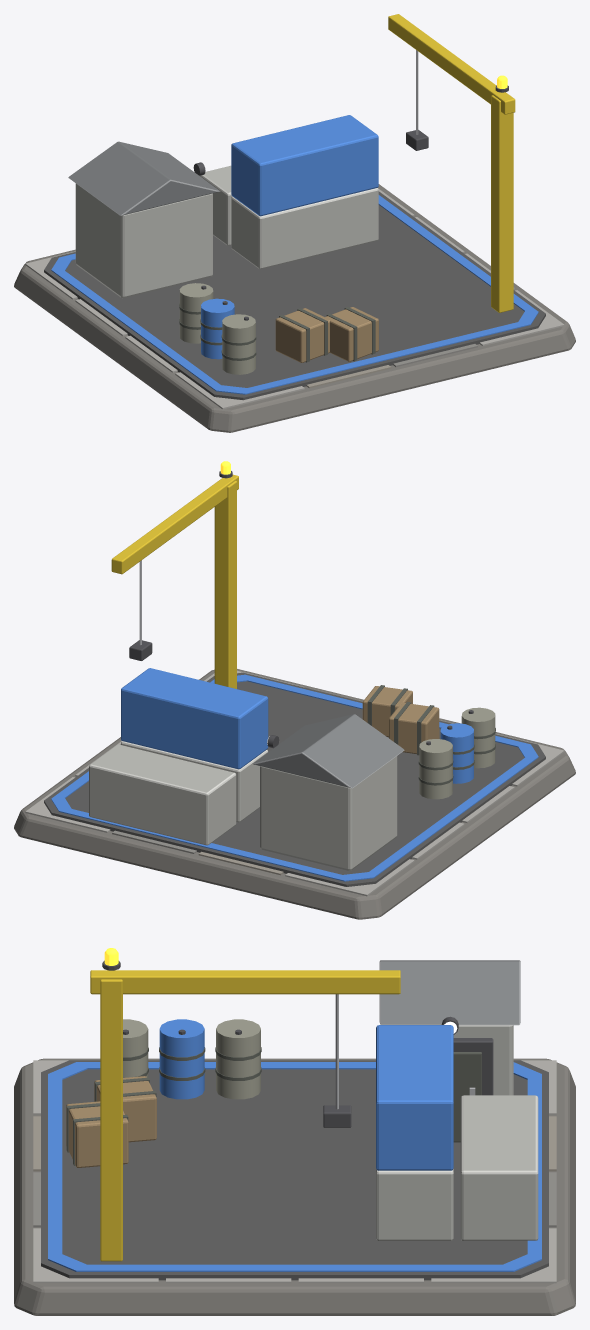
Rendered from supply_depot_blue.glb.
3 renders of one model, top to bottom at view 1: azimuth 30°, elevation 25°; view 2: azimuth 150°, elevation 25°; view 3: azimuth 270°, elevation 25°, orthographic. The views are drawn at different scales.
Visible parts, largest first — view 1: Body; view 2: Body; view 3: Body.
Part boxes in pixels (x1=…): Body: x1=14, y1=14, x2=575, y2=432; Body: x1=14, y1=461, x2=575, y2=919; Body: x1=14, y1=948, x2=575, y2=1315.
Size of the model in its own units: 3.98 by 2.65 by 3.98.
Materials: 1 (1 with a texture image).
